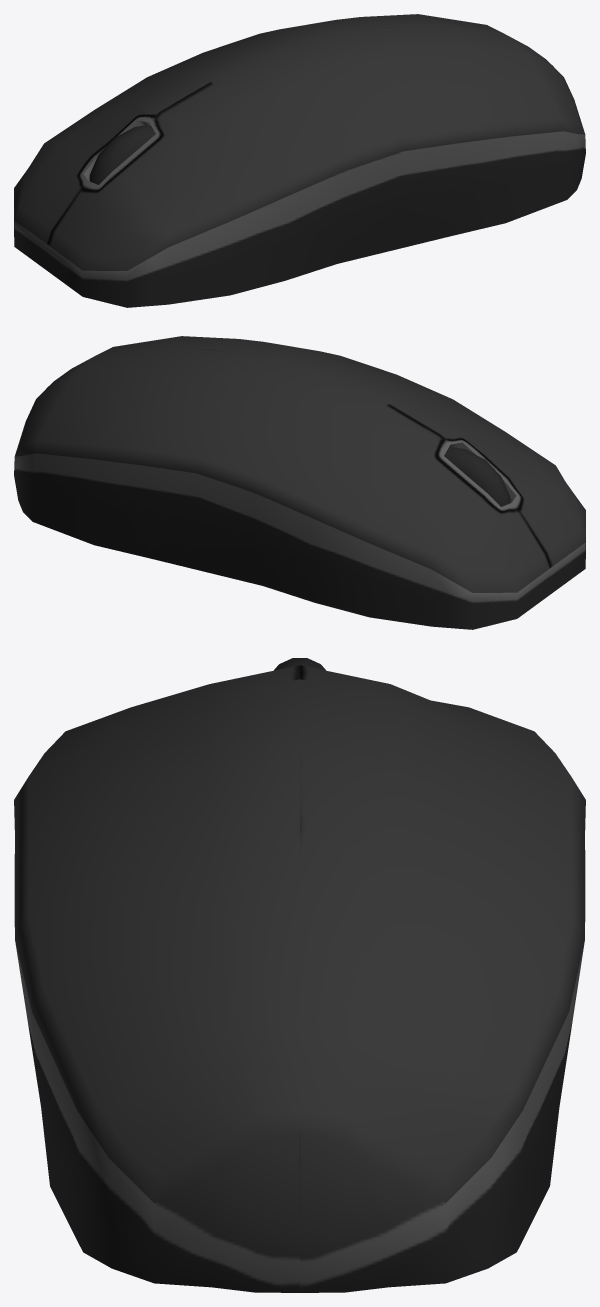
Rendered from Mouse.fbx.
The picture shows the model from 3 angles, top to bottom: view 1: azimuth 30°, elevation 25°; view 2: azimuth 150°, elevation 25°; view 3: azimuth 270°, elevation 25°; orthographic projection. The views are drawn at different scales.
Parts seen in each view (by area): view 1: pCube2; view 2: pCube2; view 3: pCube2.
Part boxes in pixels (x1=…): pCube2: x1=14, y1=14, x2=585, y2=307; pCube2: x1=14, y1=336, x2=585, y2=629; pCube2: x1=14, y1=658, x2=585, y2=1292.
Bounding box in the file's own units: 20.25 × 6.28 × 10.04.
